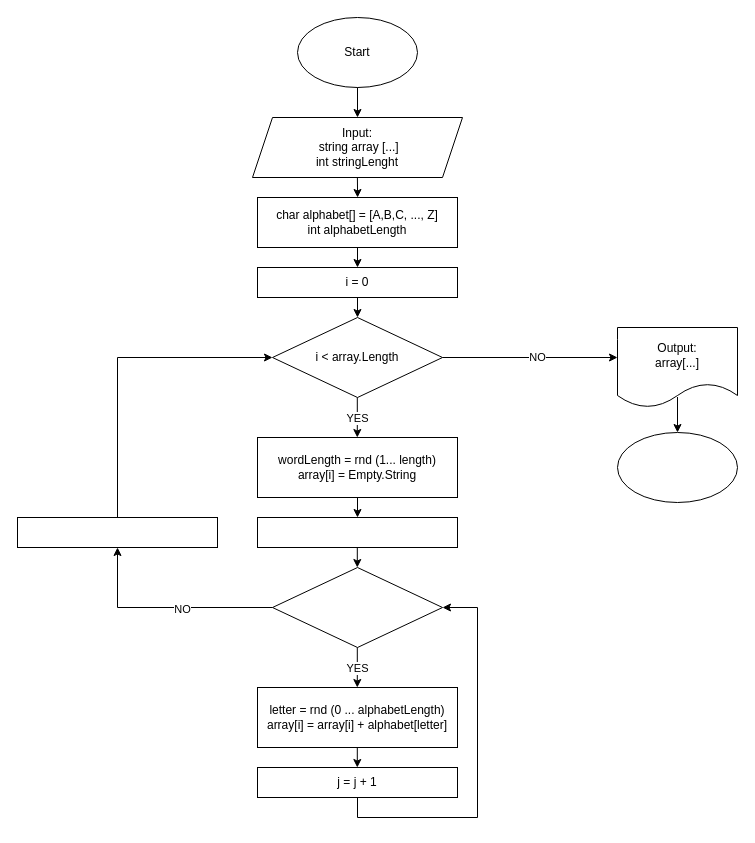
This 755x843 diagram has some shape labels left out. The shapes that lost their labels are listed below. From the top down, each one's centre as x and y in pixels, then its label:
At pixel 677 467: "End".
At pixel 117 532: "i = i +1".
At pixel 357 532: "j = 1".
At pixel 357 607: "j <= wordLength".
